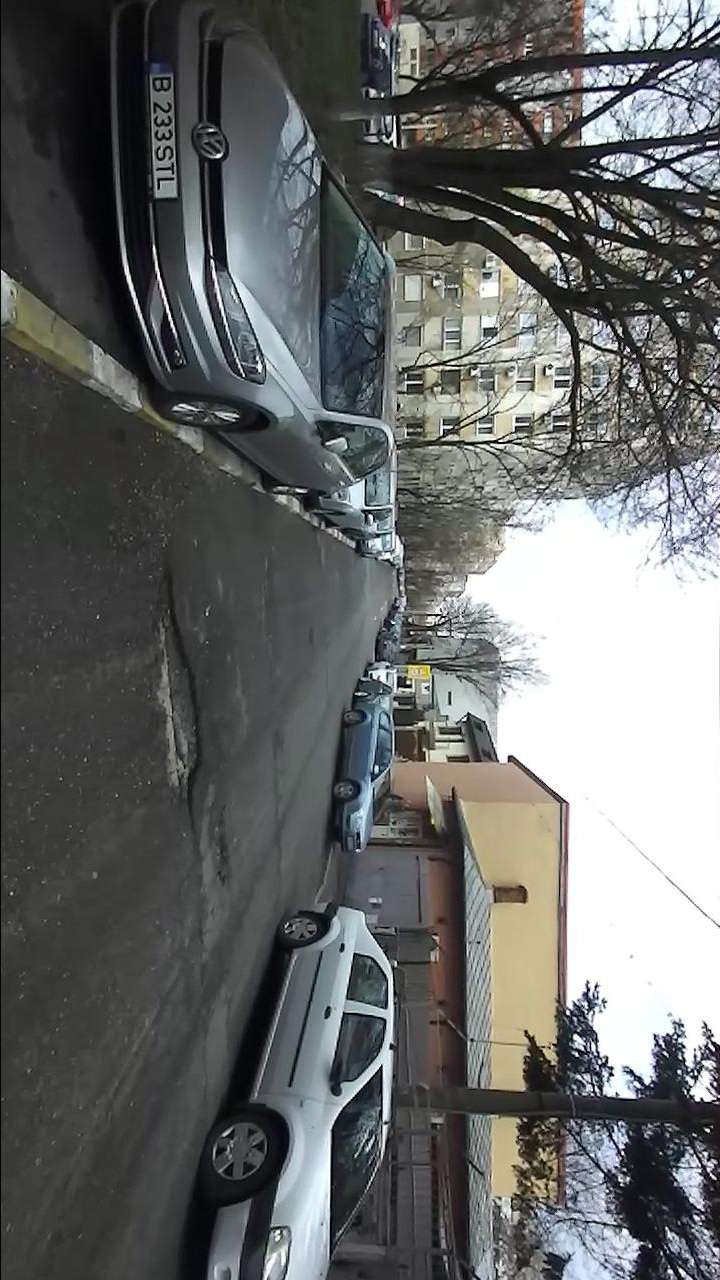pothole: (145, 555, 207, 844), (214, 813, 237, 893)
